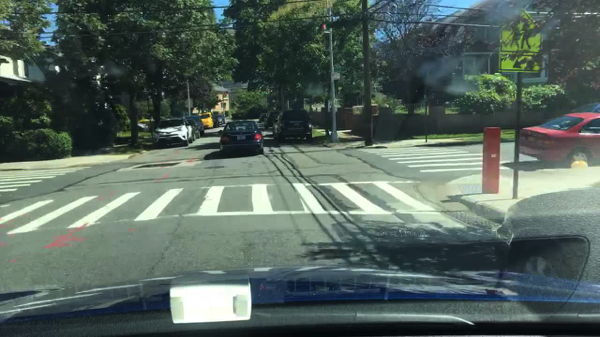car: (491, 182, 599, 287), (517, 112, 599, 167), (218, 119, 264, 158), (271, 109, 312, 143), (154, 118, 192, 147), (185, 115, 205, 134), (571, 102, 599, 115), (186, 118, 200, 141), (264, 110, 279, 128), (200, 112, 213, 129), (211, 115, 220, 128), (138, 122, 149, 132), (217, 115, 226, 124), (258, 112, 266, 122)
traffic sign: (497, 12, 541, 72), (334, 66, 346, 72), (330, 73, 339, 80)
